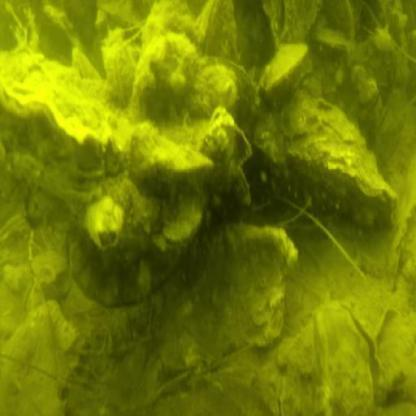3: (279, 299, 382, 416)
Oyster-Closed: (0, 49, 211, 185), (269, 92, 396, 216), (190, 0, 239, 60), (263, 42, 309, 93)
Oyster-Open: (222, 222, 297, 338)
